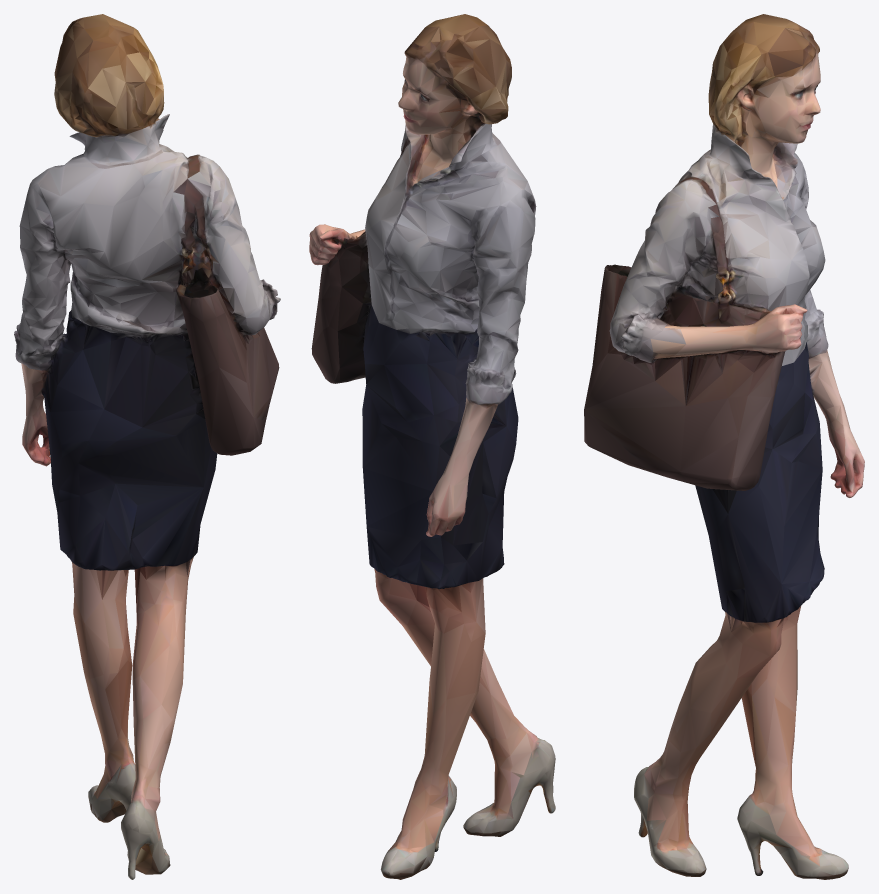
File: ren7.gltf
3 views of the same model, side by side, from view 1: azimuth 30°, elevation 25°; view 2: azimuth 150°, elevation 25°; view 3: azimuth 270°, elevation 25° (orthographic). The views are drawn at different scales.
Parts seen in each view (by area): view 1: Obj3d66-515503-23-331; view 2: Obj3d66-515503-23-331; view 3: Obj3d66-515503-23-331.
Part boxes in pixels (x1,y1,x2,y2): Obj3d66-515503-23-331: [14, 14, 280, 879]; Obj3d66-515503-23-331: [309, 14, 555, 879]; Obj3d66-515503-23-331: [584, 14, 864, 879].
Size of the model in its own units: 4.98 by 16.84 by 5.07.
1 material, 1 textured.
